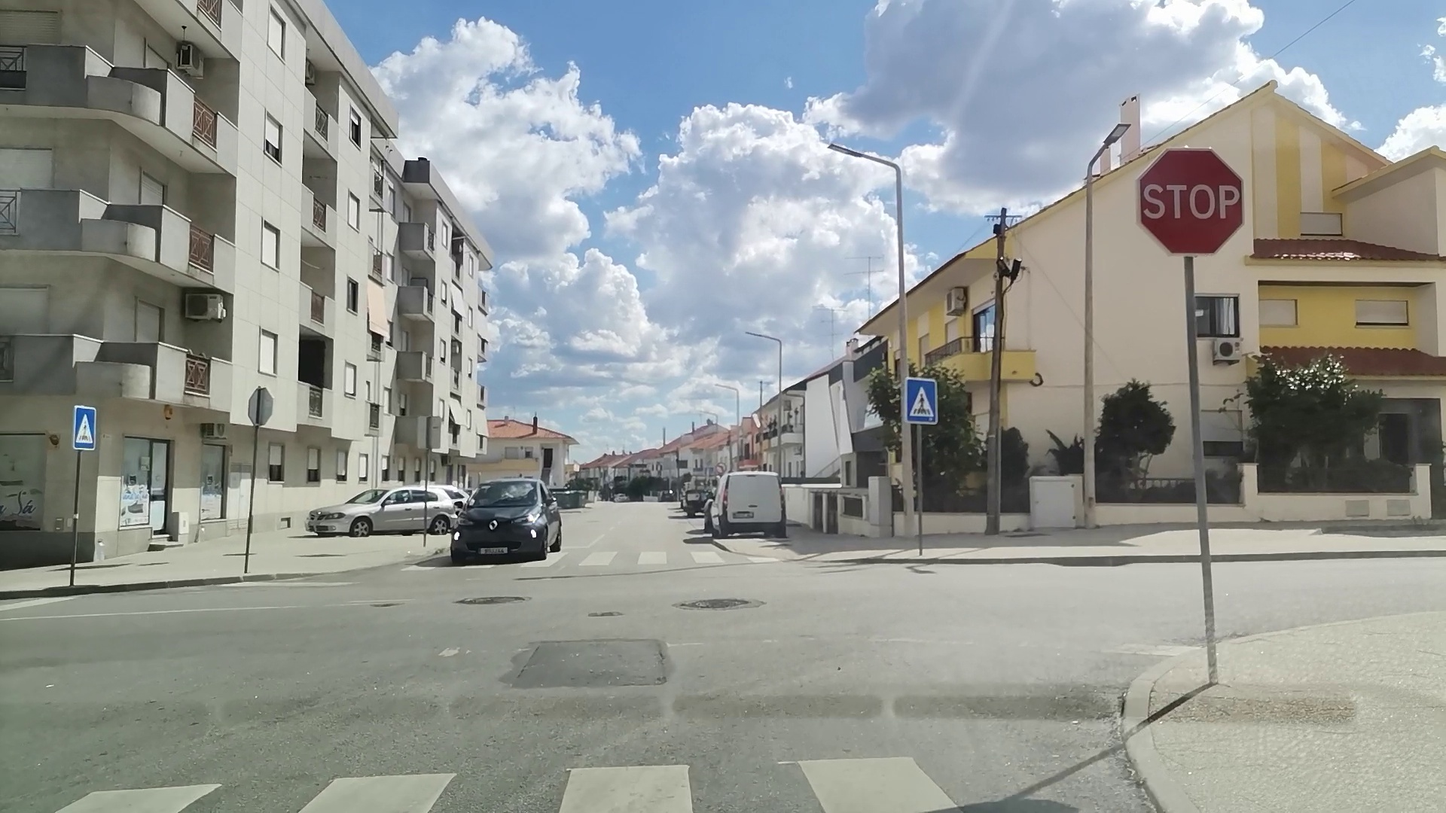Stairs: (579, 546, 786, 568)
